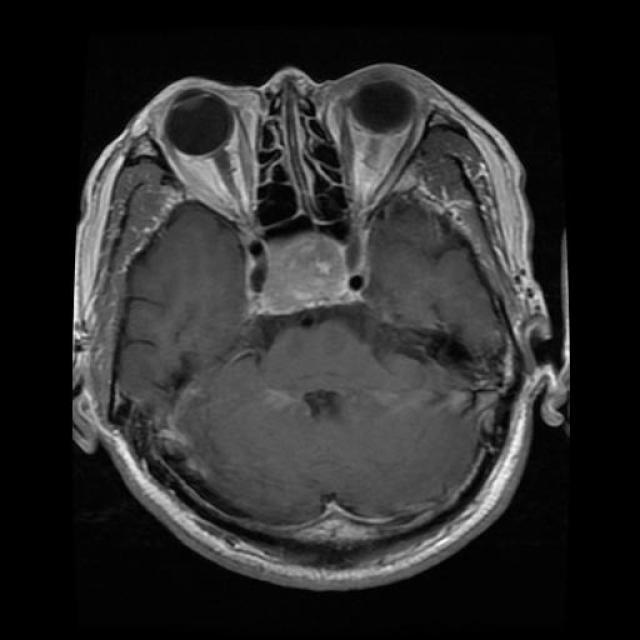pituitary: (235, 230, 375, 336)
